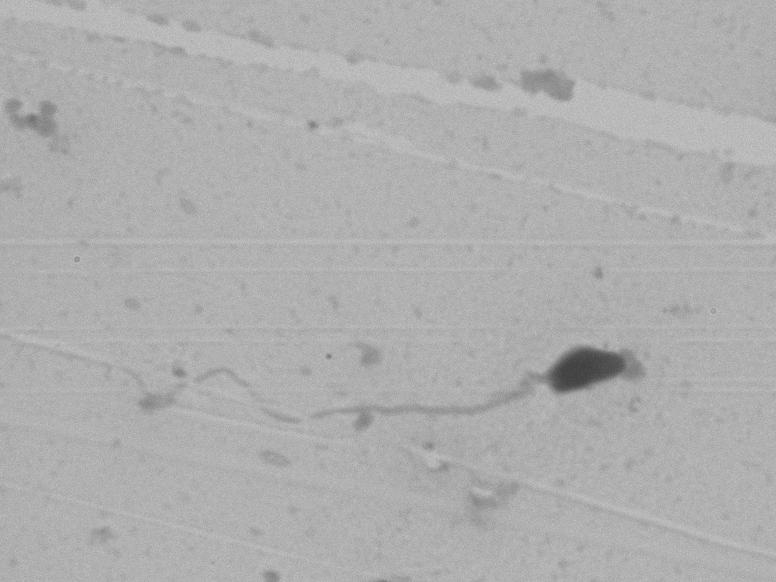Abnormal: (159, 303, 676, 460)
